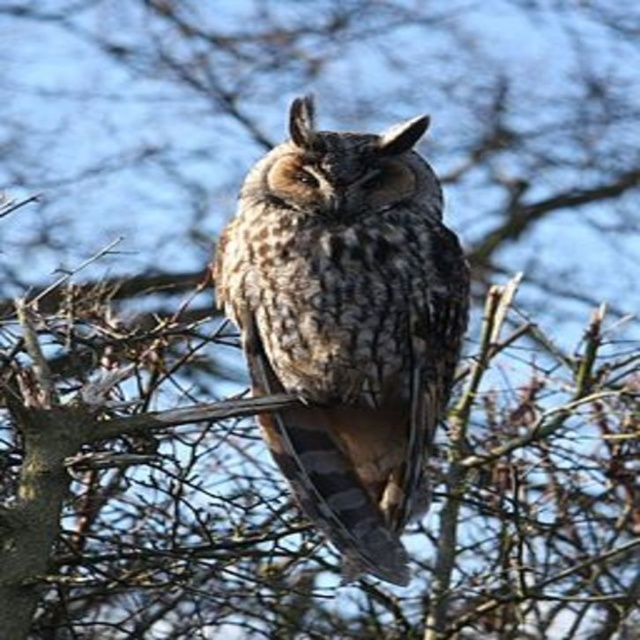Owl: (210, 89, 472, 592)
